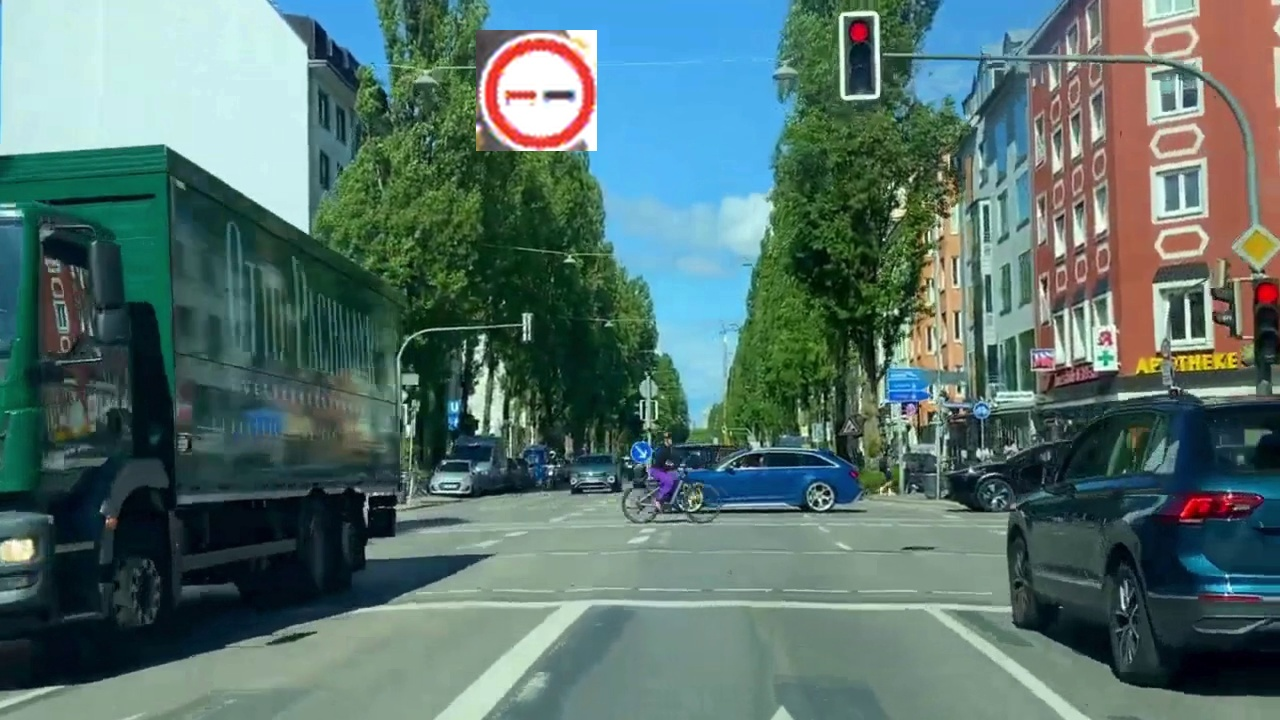No passing: (476, 30, 597, 151)
